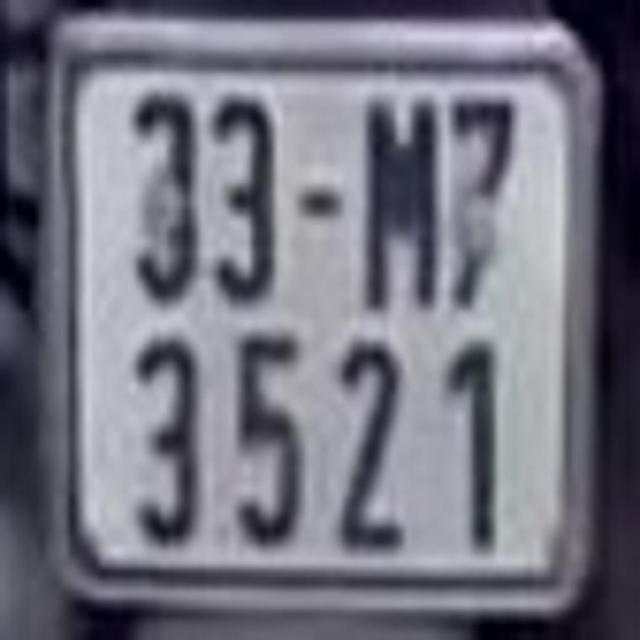1: (446, 337, 504, 552)
2: (336, 340, 407, 548)
3: (134, 90, 199, 297), (133, 343, 199, 536), (212, 98, 274, 301)
5: (236, 330, 304, 541)
7: (446, 106, 520, 306)
M: (364, 109, 436, 308)
